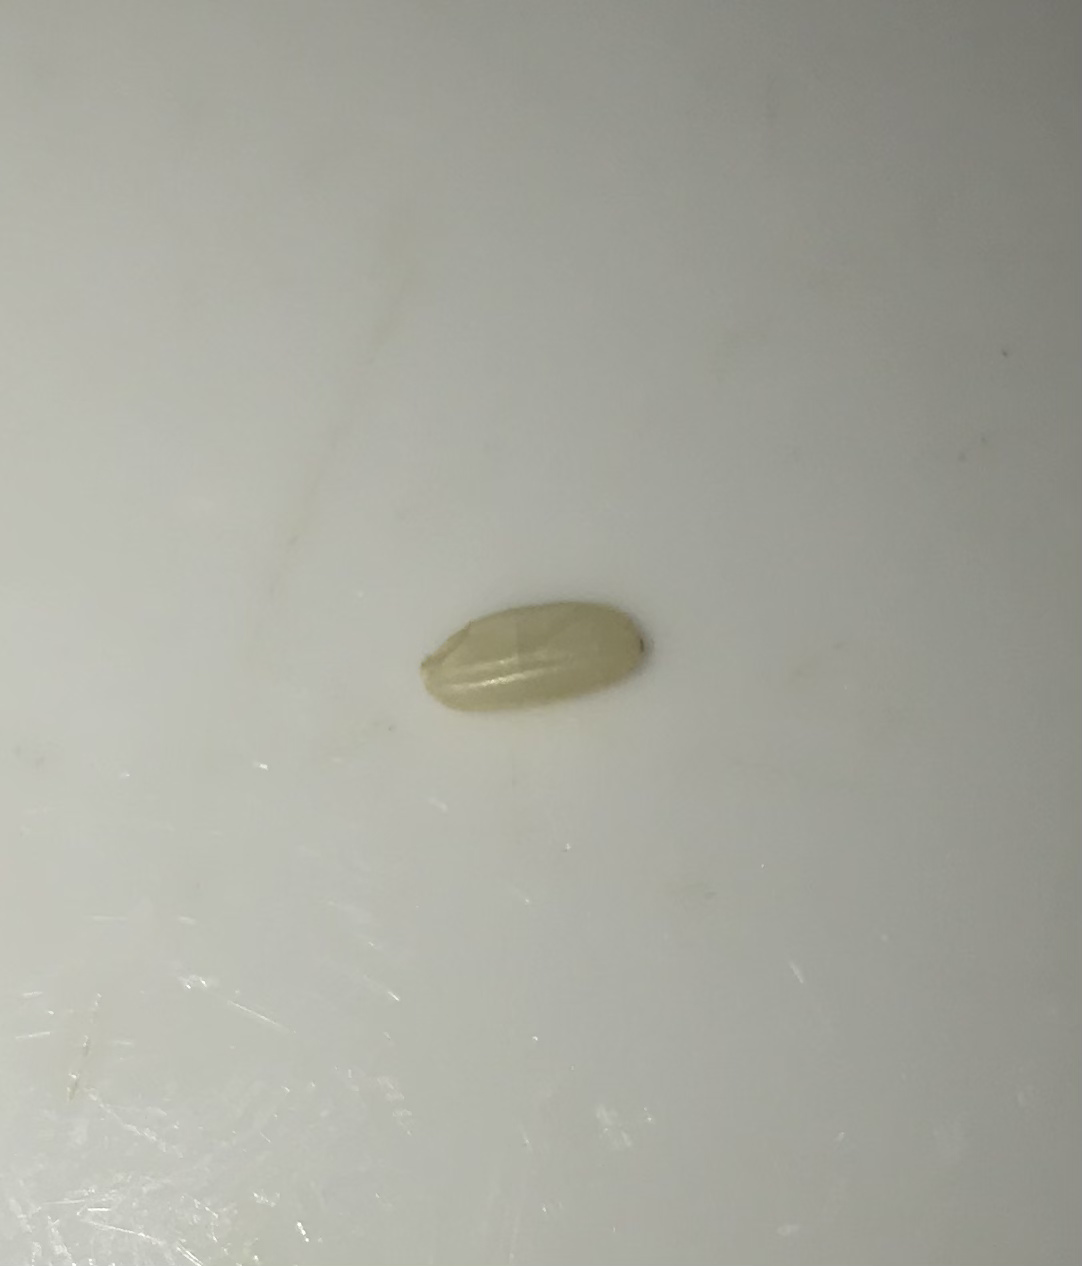Gao Lut Trang: (423, 582, 672, 738)
